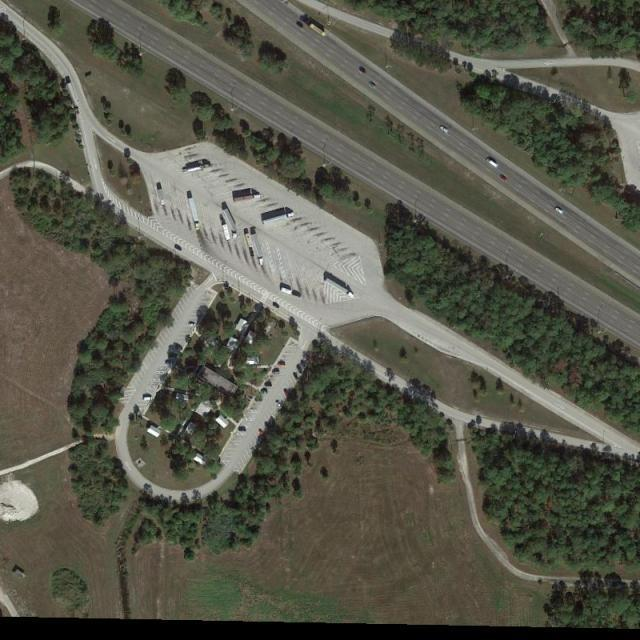vehicle: (326, 278, 355, 298), (222, 209, 240, 239), (302, 19, 327, 38), (263, 212, 295, 226), (252, 233, 266, 265), (189, 198, 201, 230), (185, 164, 212, 174), (281, 286, 302, 298), (234, 194, 261, 202), (246, 233, 255, 256), (486, 158, 500, 170), (158, 189, 166, 206), (554, 206, 564, 216), (440, 126, 450, 135), (299, 360, 308, 370), (296, 364, 305, 374), (368, 81, 377, 90), (272, 302, 282, 310), (283, 389, 291, 398), (292, 372, 300, 381), (276, 402, 284, 411), (499, 174, 507, 182), (358, 68, 366, 76), (164, 362, 174, 368), (174, 344, 184, 350), (174, 244, 182, 251), (258, 428, 265, 436), (238, 427, 247, 433), (143, 397, 154, 401), (168, 355, 178, 359), (265, 382, 273, 387), (272, 372, 281, 376), (189, 323, 197, 327), (278, 362, 286, 366), (262, 390, 268, 394)
